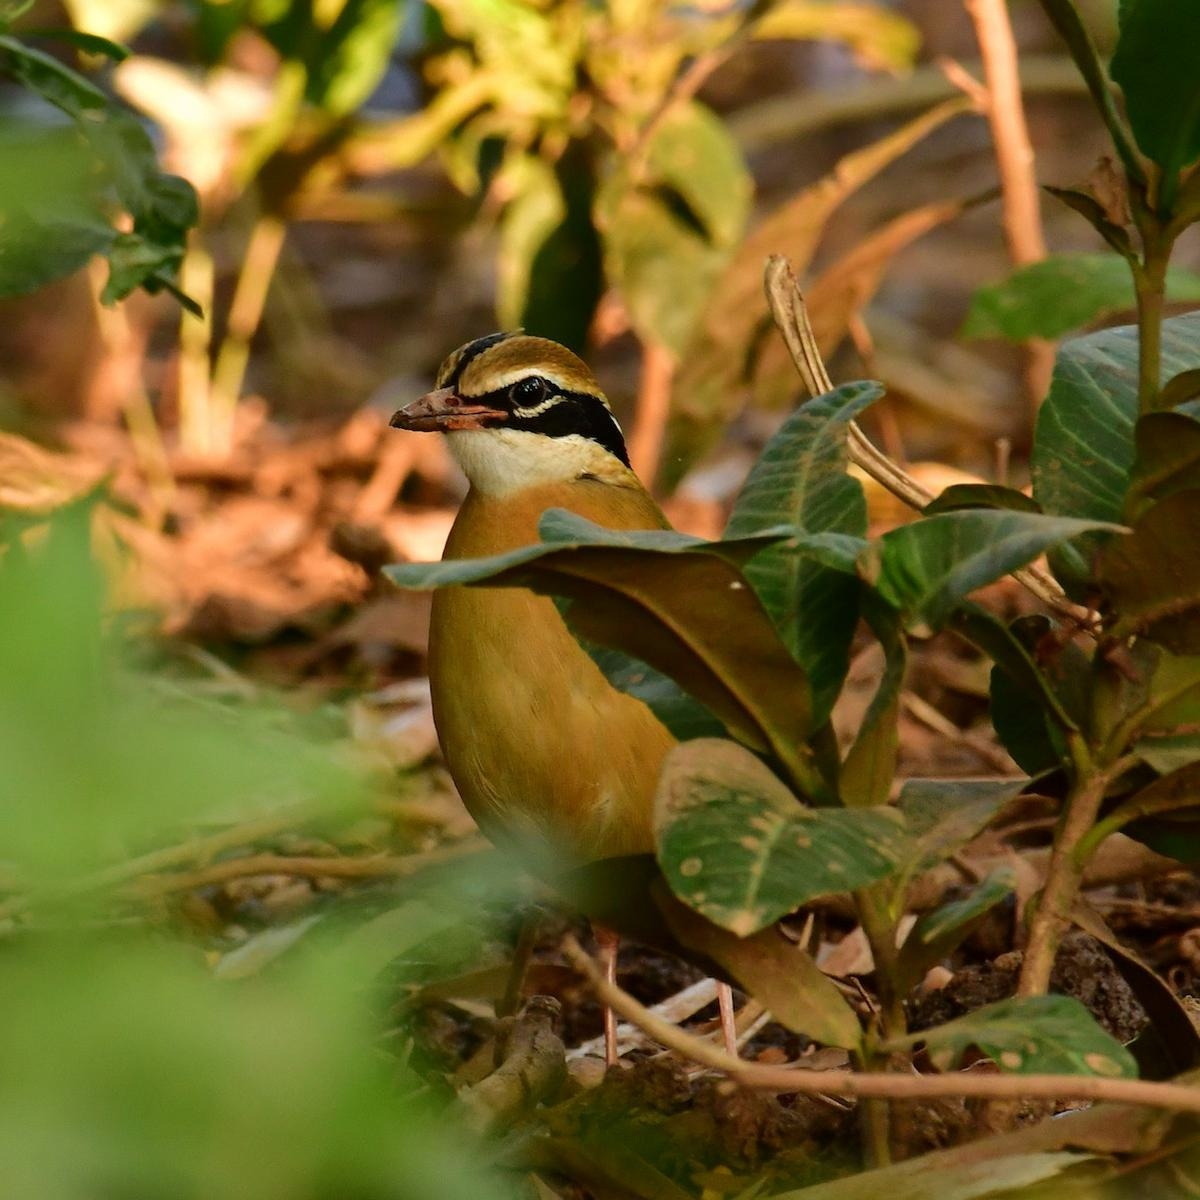pitta: (322, 269, 864, 1005)
